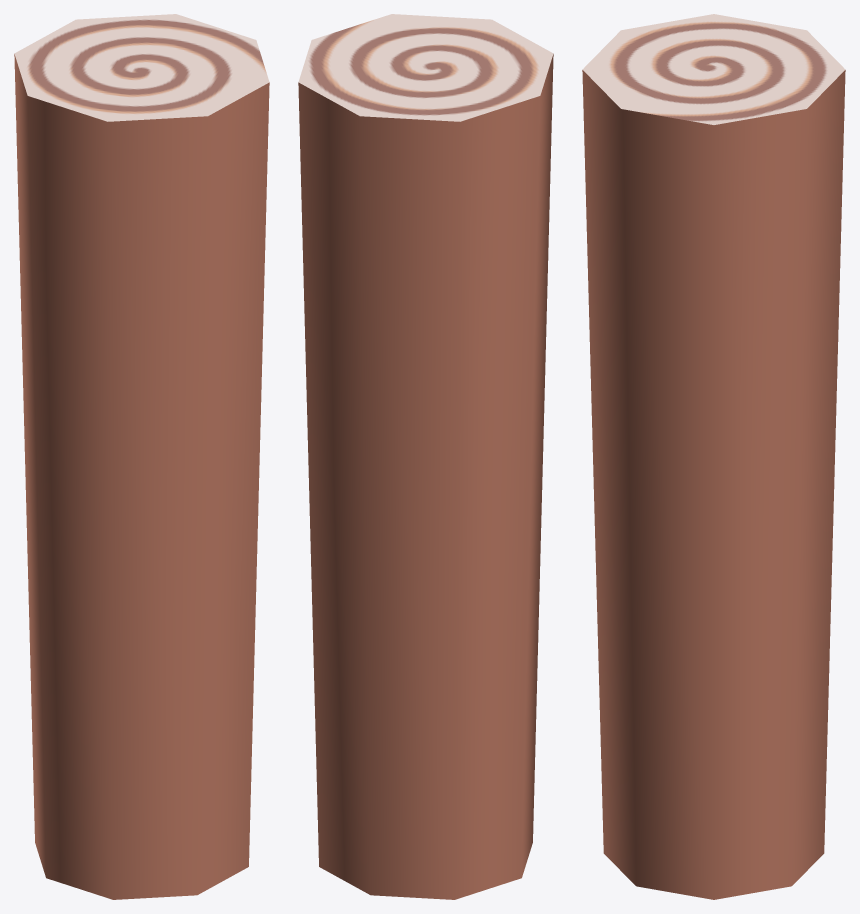
3 renders of one model, left to right at view 1: azimuth 30°, elevation 25°; view 2: azimuth 150°, elevation 25°; view 3: azimuth 270°, elevation 25°, orthographic.
Visible parts, largest first — view 1: wl01_a001; view 2: wl01_a001; view 3: wl01_a001.
Part boxes in pixels (left/top/right/bottom): wl01_a001: left=14, top=14, right=269, bottom=899; wl01_a001: left=298, top=14, right=553, bottom=899; wl01_a001: left=582, top=14, right=845, bottom=899.
Size of the model in its own units: 15.8 by 51.93 by 15.8.
